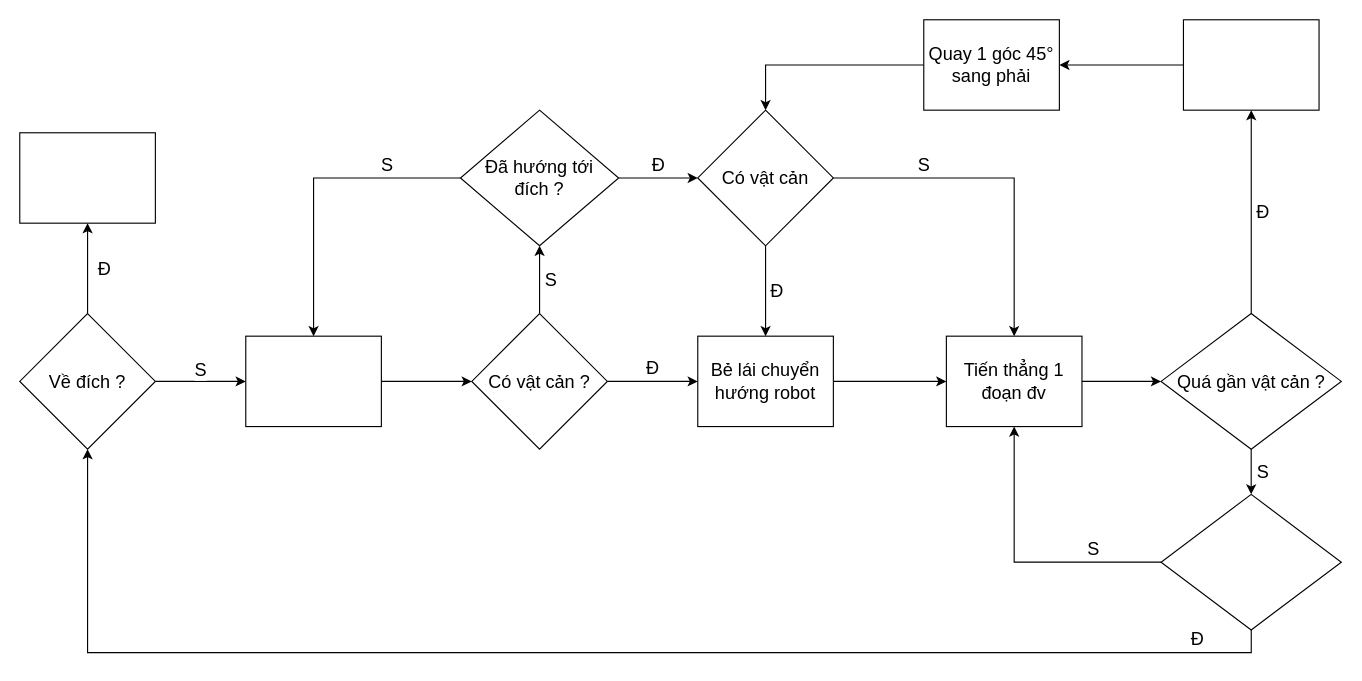
Some shapes in this 1362 by 681 pixel diagram are drawn without their labels. The centre of each missing label's shape, as x and y in pixels:
"Dừng robot" belongs at point (87, 177).
"Lùi 1 đoạn" belongs at point (1250, 64).
"Quay 1 góc dv hướng tới đích" belongs at point (313, 381).
"Đã tiến đủ" belongs at point (1250, 561).
